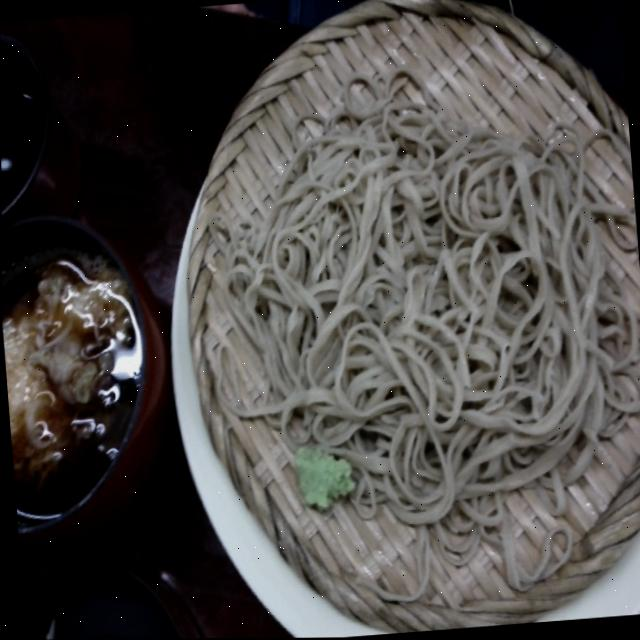面条主食: (149, 0, 640, 639)
